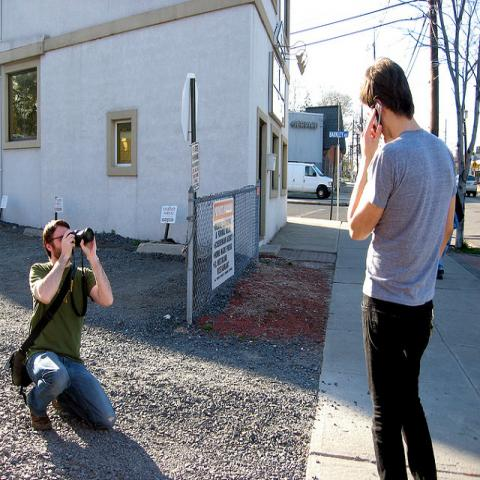car: (455, 173, 477, 198)
truck: (288, 162, 332, 199)
